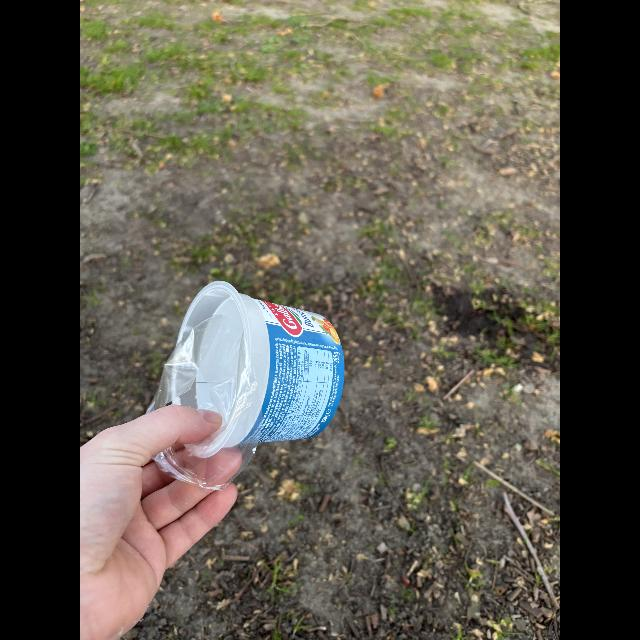Plastic: (150, 286, 344, 498)
